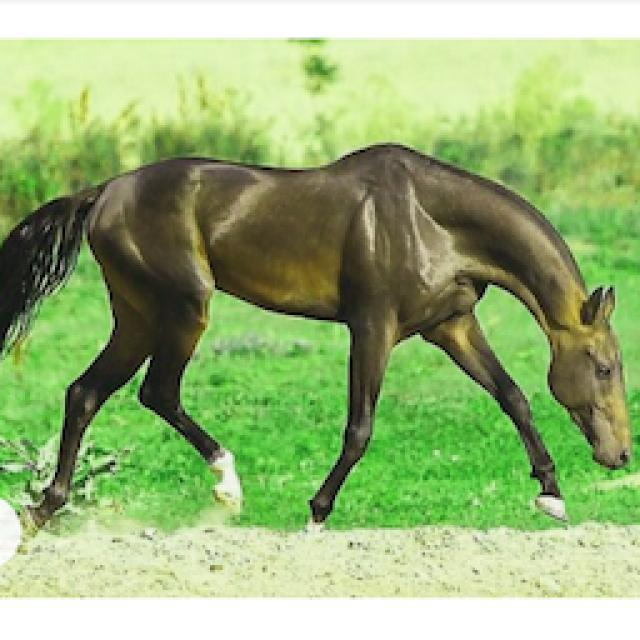Horse: (2, 132, 640, 540)
